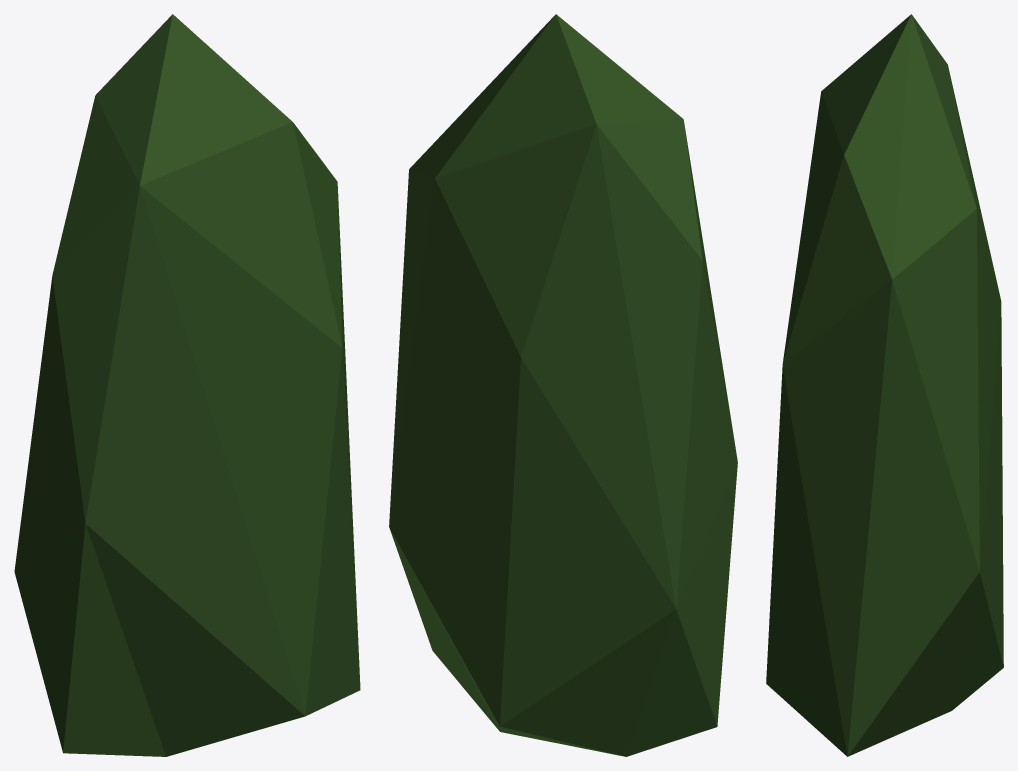
The model's file is SM_bush_05.fbx.
3 renders of one model, left to right at view 1: azimuth 30°, elevation 25°; view 2: azimuth 150°, elevation 25°; view 3: azimuth 270°, elevation 25°, orthographic. The views are drawn at different scales.
Parts seen in each view (by area): view 1: Object135; view 2: Object135; view 3: Object135.
Part boxes in pixels (box(x1,y1,x2,y2)): Object135: box(14, 14, 360, 756); Object135: box(389, 14, 737, 756); Object135: box(766, 14, 1003, 756).
Size of the model in its own units: 41.64 by 96.24 by 30.1.
